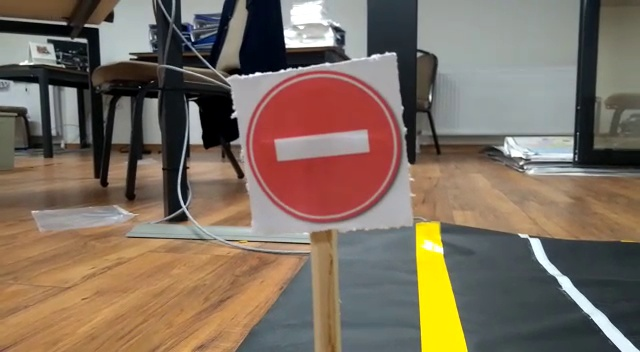girisi_olmayan_yol: (241, 74, 411, 223)
